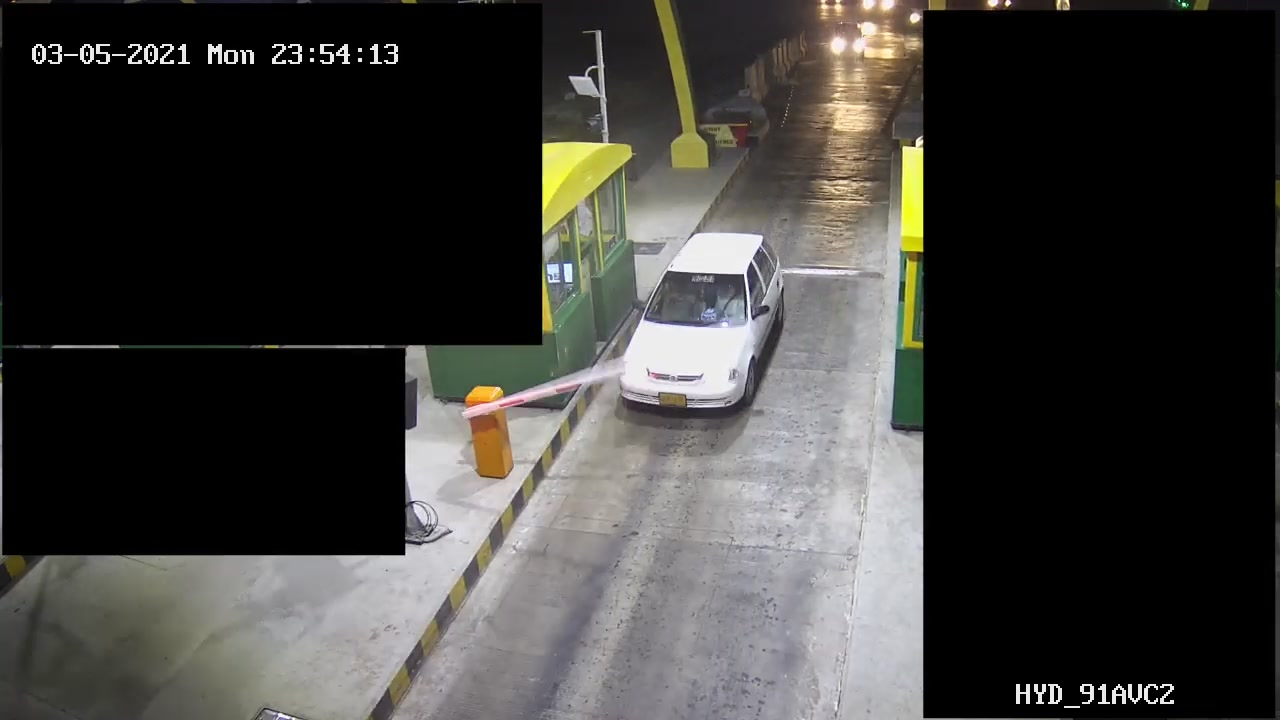F1: (614, 225, 794, 421)
